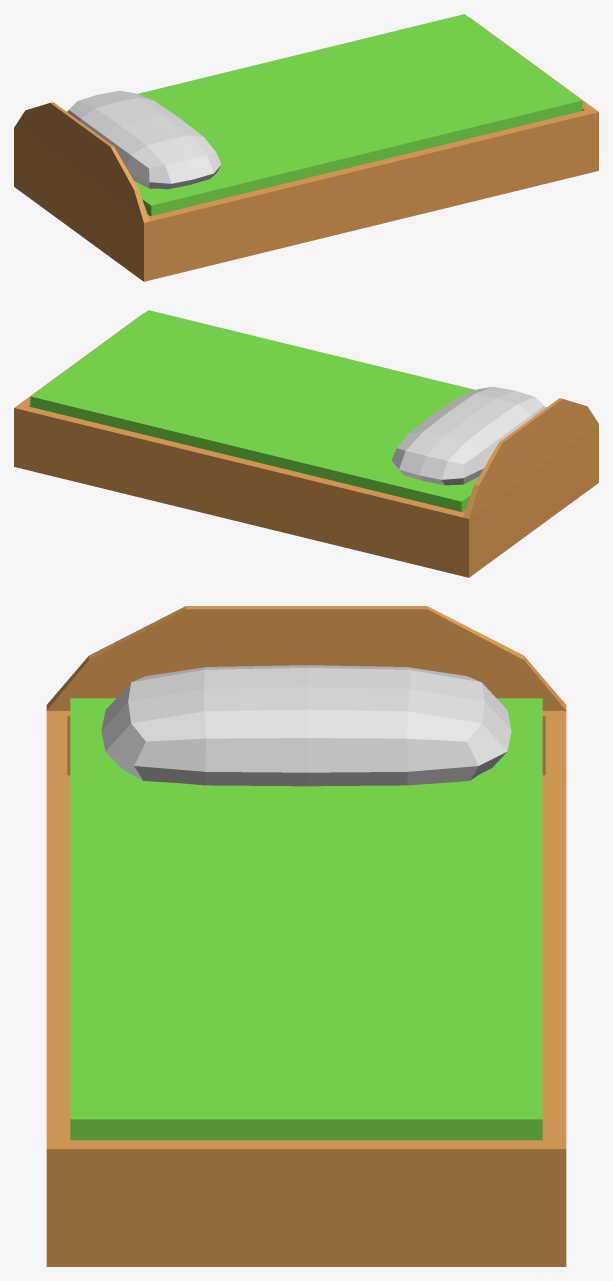
Rendered from Bed.glb.
3 renders of one model, top to bottom at view 1: azimuth 30°, elevation 25°; view 2: azimuth 150°, elevation 25°; view 3: azimuth 270°, elevation 25°, orthographic. The views are drawn at different scales.
Parts seen in each view (by area): view 1: Matress, Base-col, Cube; view 2: Matress, Base-col, Cube; view 3: Matress, Base-col, Cube.
Boxes of the visible parts, x1,y1,x2,y2 form: Matress: (66,14,582,216); Base-col: (14,17,598,281); Cube: (67,90,221,189); Matress: (30,310,546,512); Base-col: (14,313,598,577); Cube: (391,386,545,485); Matress: (70,698,542,1140); Base-col: (46,606,566,1266); Cube: (101,665,511,786).
Size of the model in its own units: 8.09 by 1.85 by 4.
